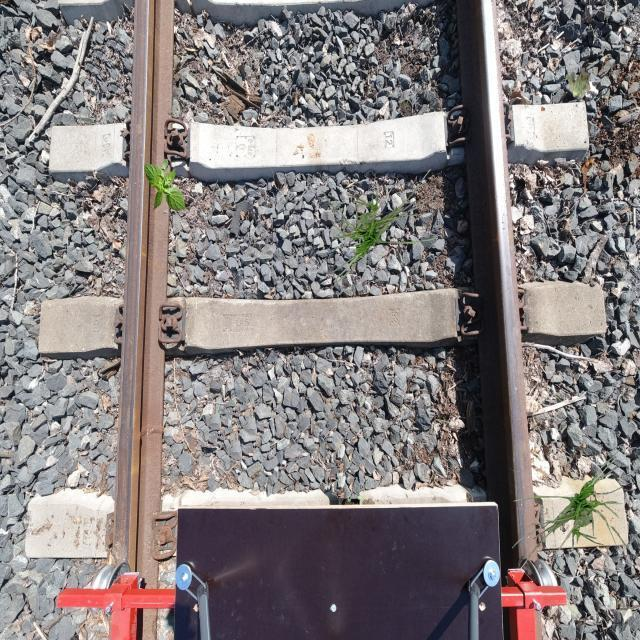Plant: (512, 449, 630, 572), (320, 168, 438, 290), (144, 159, 186, 212), (565, 67, 591, 99)
